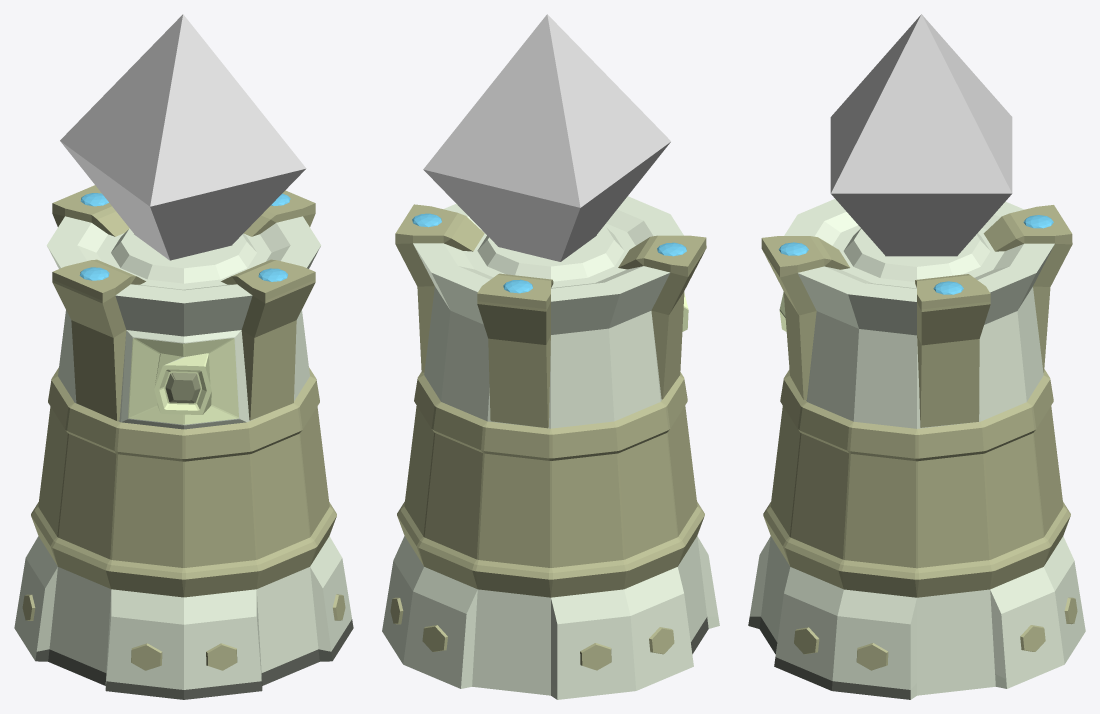
The model's file is 3.3激光发射台.fbx.
3 renders of one model, left to right at view 1: azimuth 30°, elevation 25°; view 2: azimuth 150°, elevation 25°; view 3: azimuth 270°, elevation 25°, orthographic.
Parts seen in each view (by area): view 1: 柱体.003, 柱体.002, 立方体, 柱体.010, 柱体.008, 柱体.009, 柱体.001, 柱体.014, 柱体.013; view 2: 柱体.003, 柱体.002, 立方体, 柱体.009, 柱体.008, 柱体.001, 柱体.015, 柱体.012, 柱体.016; view 3: 柱体.003, 柱体.002, 立方体, 柱体.001, 柱体.010, 柱体.009, 柱体.018, 柱体.019, 柱体.017.
Boxes of the visible parts, x1,y1,x2,y2 form: 柱体.003: [14, 216, 353, 699]; 柱体.002: [31, 367, 336, 597]; 立方体: [60, 14, 306, 260]; 柱体.010: [221, 259, 315, 420]; 柱体.008: [52, 259, 145, 420]; 柱体.009: [52, 185, 129, 236]; 柱体.001: [243, 190, 315, 236]; 柱体.014: [131, 643, 162, 670]; 柱体.013: [206, 643, 237, 670]; 柱体.003: [382, 196, 719, 699]; 柱体.002: [397, 372, 704, 597]; 立方体: [423, 14, 670, 261]; 柱体.009: [477, 273, 553, 428]; 柱体.008: [618, 235, 706, 399]; 柱体.001: [395, 204, 484, 372]; 柱体.015: [580, 643, 611, 670]; 柱体.012: [649, 627, 674, 654]; 柱体.016: [422, 625, 447, 651]; 柱体.003: [748, 199, 1085, 699]; 柱体.002: [763, 369, 1070, 597]; 立方体: [830, 14, 1012, 256]; 柱体.001: [915, 274, 990, 427]; 柱体.010: [761, 236, 850, 399]; 柱体.009: [983, 205, 1072, 372]; 柱体.018: [856, 643, 888, 670]; 柱体.019: [794, 627, 819, 654]; 柱体.017: [1020, 625, 1045, 651].
Bounding box in the file's own units: 75.81 × 153 × 75.84.
